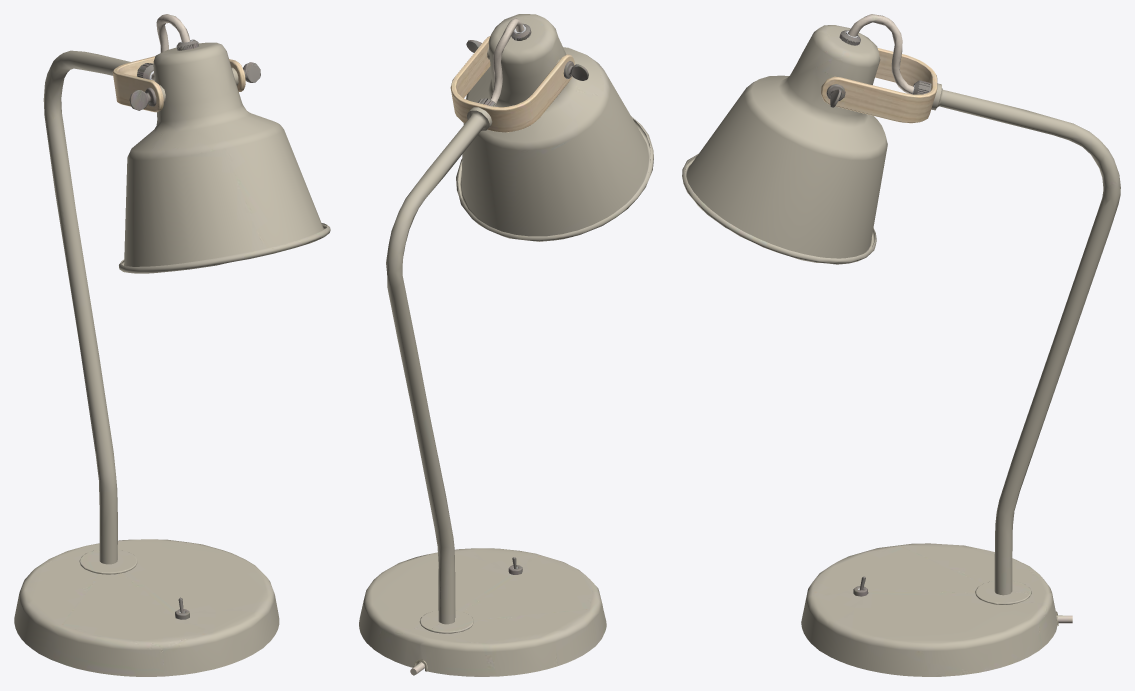
Rendered from sjomakt_lampa_na_biurko_90595666.glb.
The picture shows the model from 3 angles, left to right: view 1: azimuth 30°, elevation 25°; view 2: azimuth 150°, elevation 25°; view 3: azimuth 270°, elevation 25°; orthographic projection. The views are drawn at different scales.
Parts seen in each view (by area): view 1: sjomakt_lampa_na_biurko_90595666; view 2: sjomakt_lampa_na_biurko_90595666; view 3: sjomakt_lampa_na_biurko_90595666.
Boxes of the visible parts, x1,y1,x2,y2 form: sjomakt_lampa_na_biurko_90595666: [14, 14, 330, 676]; sjomakt_lampa_na_biurko_90595666: [359, 14, 653, 676]; sjomakt_lampa_na_biurko_90595666: [682, 14, 1120, 676].
Size of the model in its own units: 0.1903 by 0.4996 by 0.3258.
Materials: 2 (2 with a texture image).
